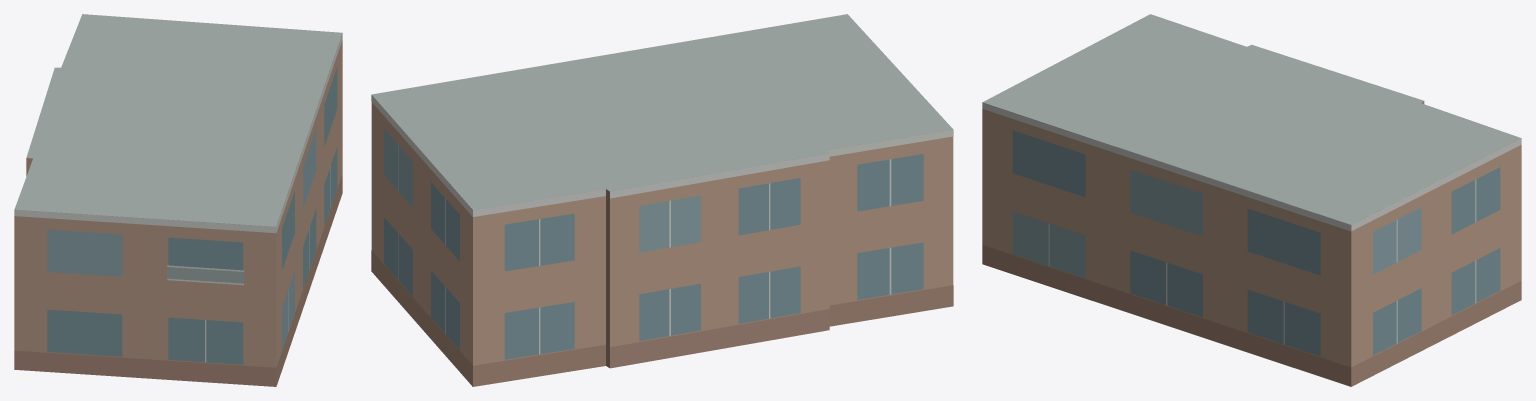
File: survey-upis-32848724.glb
3 views of the same model, side by side, from view 1: azimuth 30°, elevation 25°; view 2: azimuth 150°, elevation 25°; view 3: azimuth 270°, elevation 25° (orthographic). The views are drawn at different scales.
Parts seen in each view (by area): view 1: survey-upis-32848724.tmp; view 2: survey-upis-32848724.tmp; view 3: survey-upis-32848724.tmp.
Boxes of the visible parts, x1,y1,x2,y2 form: survey-upis-32848724.tmp: [14, 14, 342, 386]; survey-upis-32848724.tmp: [371, 14, 953, 386]; survey-upis-32848724.tmp: [982, 14, 1521, 386].
Size of the model in its own units: 17.06 by 6.1 by 18.42.
